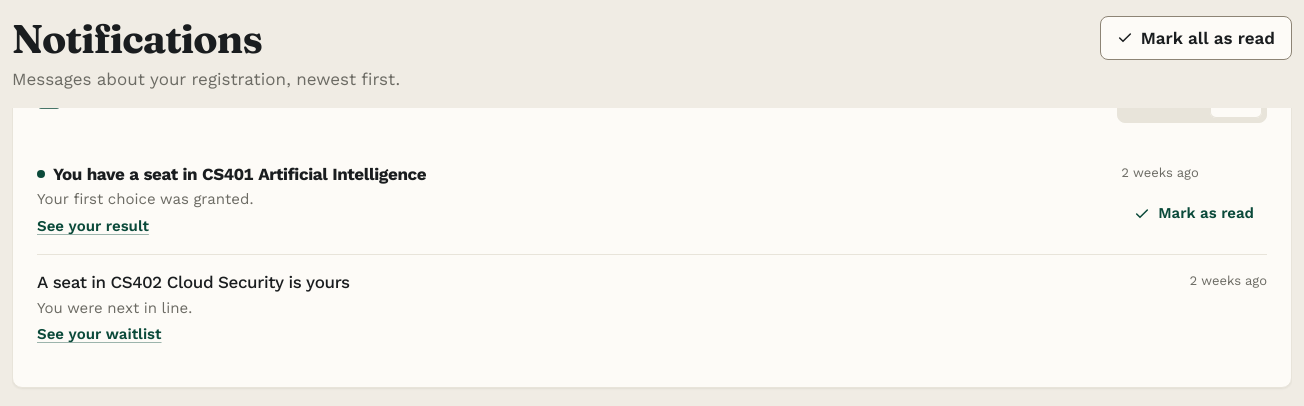
Test: NotificationsPage › marks everything as read and reloads the list
Expected: the heading "You have a seat in CS401 Artificial Intelligence" is shown, [53,163,426,185]
What coordinates should you click on to do the following:
click the button "Mark all as read"
I would click on:
 (1196, 38)
Its box is [1100,16,1292,60].
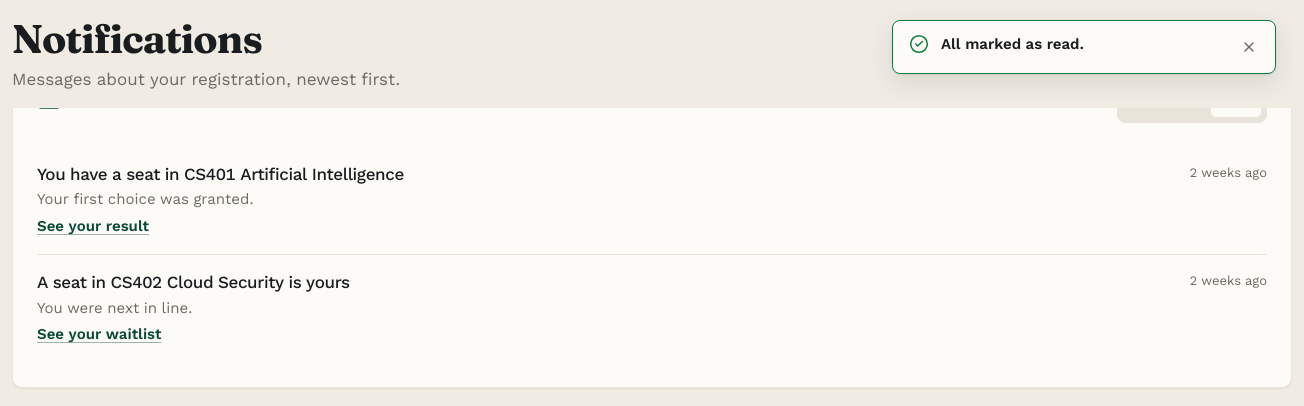
Expected: the button "Mark all as read" is gone
